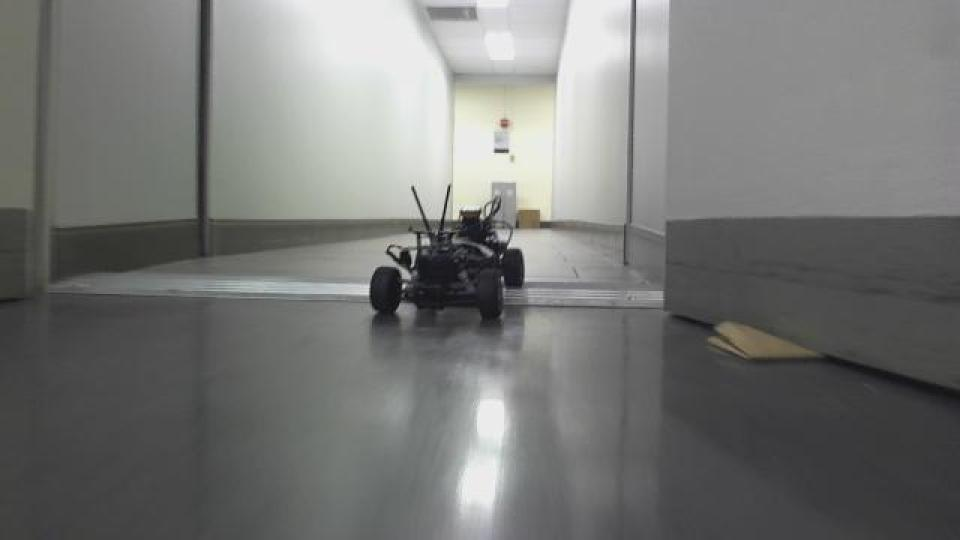car: (366, 182, 526, 326)
